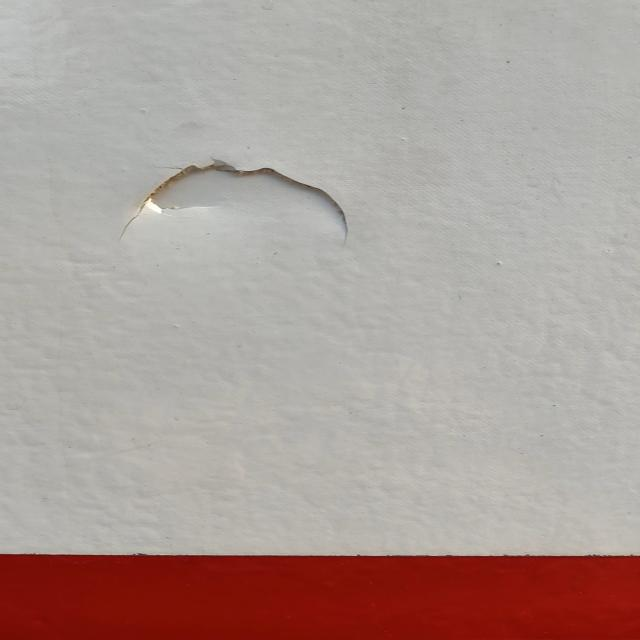Scratches: (110, 143, 378, 248)
